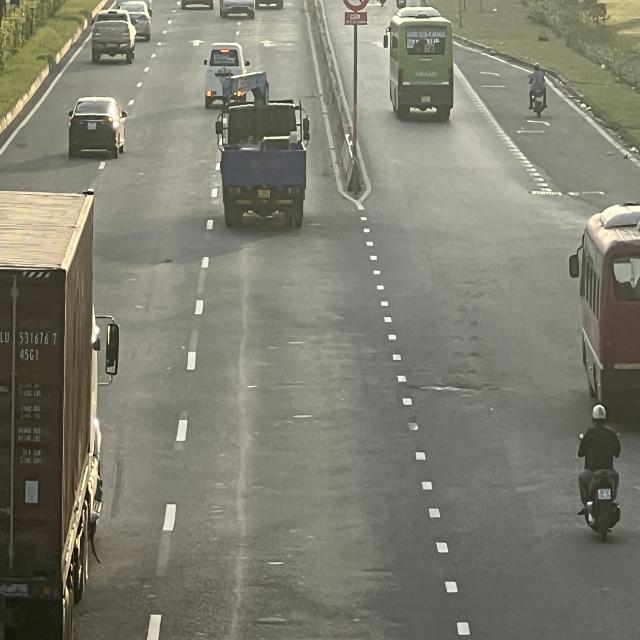car: (65, 97, 125, 159), (90, 13, 137, 63), (118, 1, 154, 41)
coach: (568, 203, 638, 425), (385, 8, 455, 124)
container: (0, 190, 120, 640)
truck: (218, 101, 312, 226)
van: (203, 41, 251, 106)
